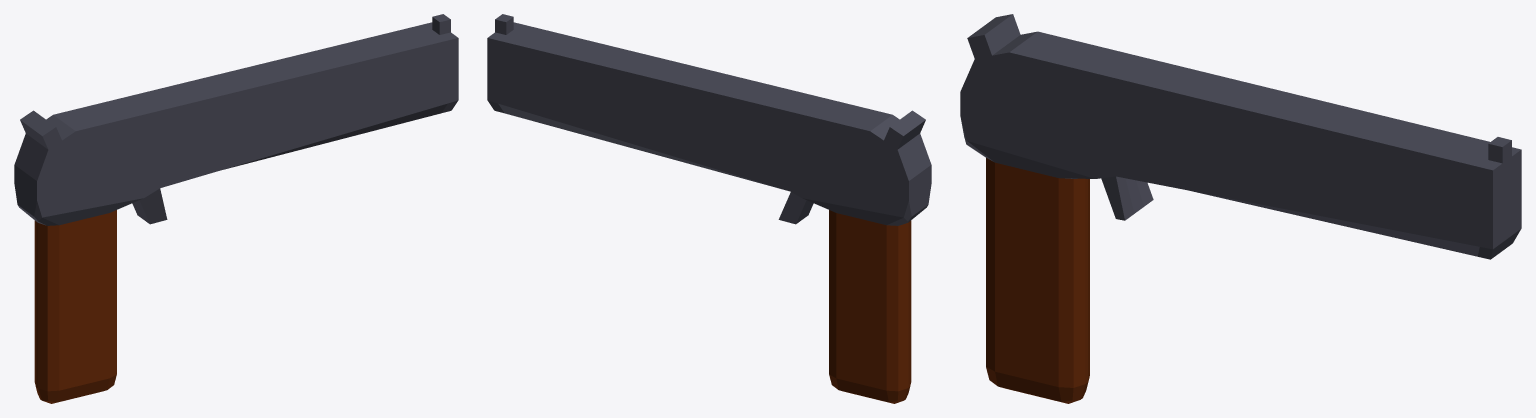
File: Pistol.fbx
The picture shows the model from 3 angles, left to right: view 1: azimuth 30°, elevation 25°; view 2: azimuth 150°, elevation 25°; view 3: azimuth 330°, elevation 25°; orthographic projection. The views are drawn at different scales.
Visible parts, largest first — view 1: Rifle, Handle; view 2: Rifle, Handle; view 3: Rifle, Handle.
Boxes of the visible parts, x1,y1,x2,y2 form: Rifle: (14, 14, 458, 225); Handle: (34, 210, 116, 403); Rifle: (487, 14, 931, 225); Handle: (829, 210, 911, 403); Rifle: (960, 14, 1521, 259); Handle: (986, 158, 1089, 403).
Size of the model in its own units: 67.79 by 44.54 by 6.3.
